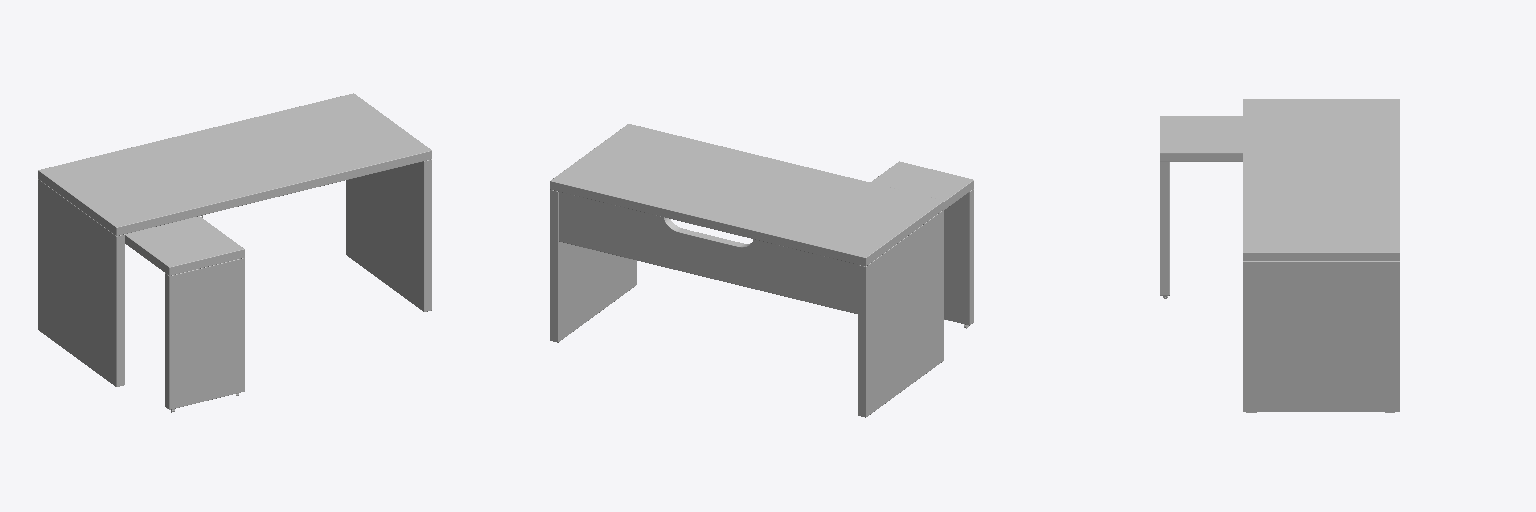
The model's file is Table IKEA Malm N200821.obj.
3 renders of one model, left to right at view 1: azimuth 30°, elevation 25°; view 2: azimuth 150°, elevation 25°; view 3: azimuth 270°, elevation 25°, orthographic.
Visible parts, largest first — view 1: Box029; view 2: Box029; view 3: Box029.
Boxes of the visible parts, box(x1,y1,x2,y2) form: Box029: box(38, 93, 431, 412); Box029: box(550, 124, 973, 417); Box029: box(1160, 99, 1399, 412).
Size of the model in its own units: 1510 by 734 by 993.